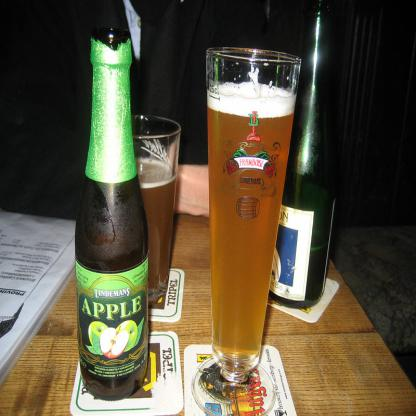drinking: (207, 46, 301, 372), (75, 26, 149, 401), (265, 0, 342, 309), (101, 113, 182, 300)
